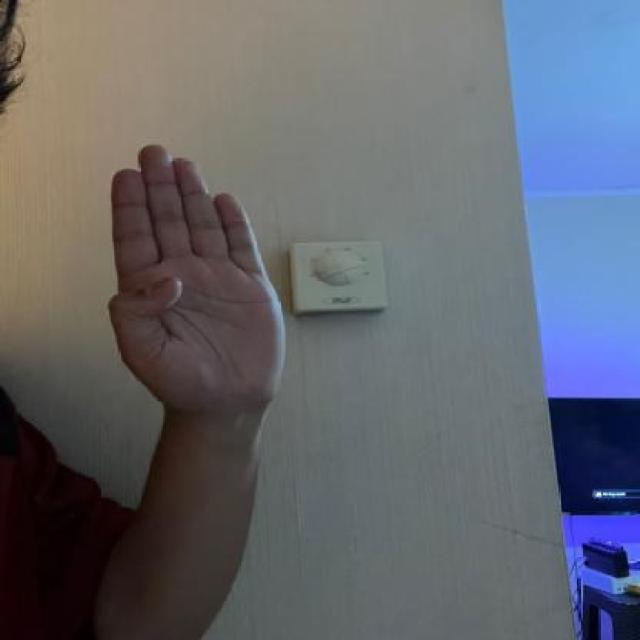B: (100, 142, 298, 407)
